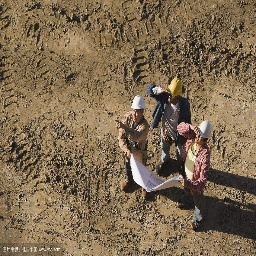helmet: (129, 94, 148, 112), (197, 119, 212, 140)
no-vest: (123, 116, 147, 161), (185, 146, 205, 194)
person: (179, 120, 215, 233), (119, 94, 150, 207)
